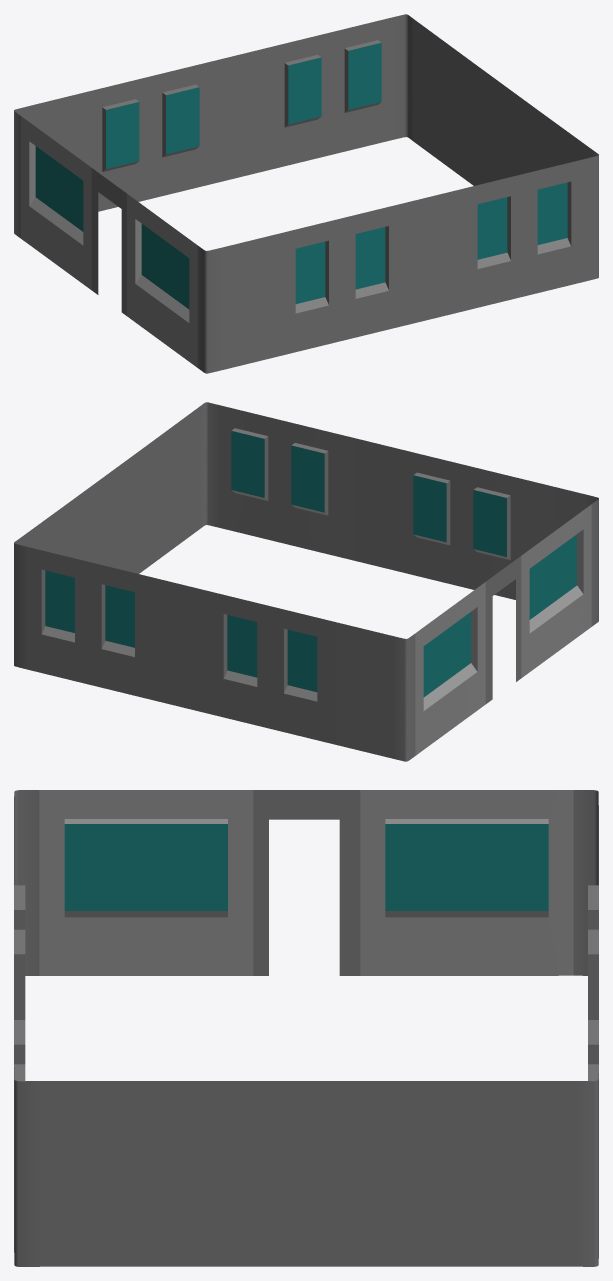
File: RDC2.FBX
3 renders of one model, top to bottom at view 1: azimuth 30°, elevation 25°; view 2: azimuth 150°, elevation 25°; view 3: azimuth 270°, elevation 25°, orthographic. The views are drawn at different scales.
Visible parts, largest first — view 1: Object053; view 2: Object053; view 3: Object053.
Boxes of the visible parts, <box> form: Object053: <box>14,14,598,373</box>; Object053: <box>14,402,598,761</box>; Object053: <box>14,790,598,1266</box>.
Size of the model in its own units: 318 by 94.49 by 270.
